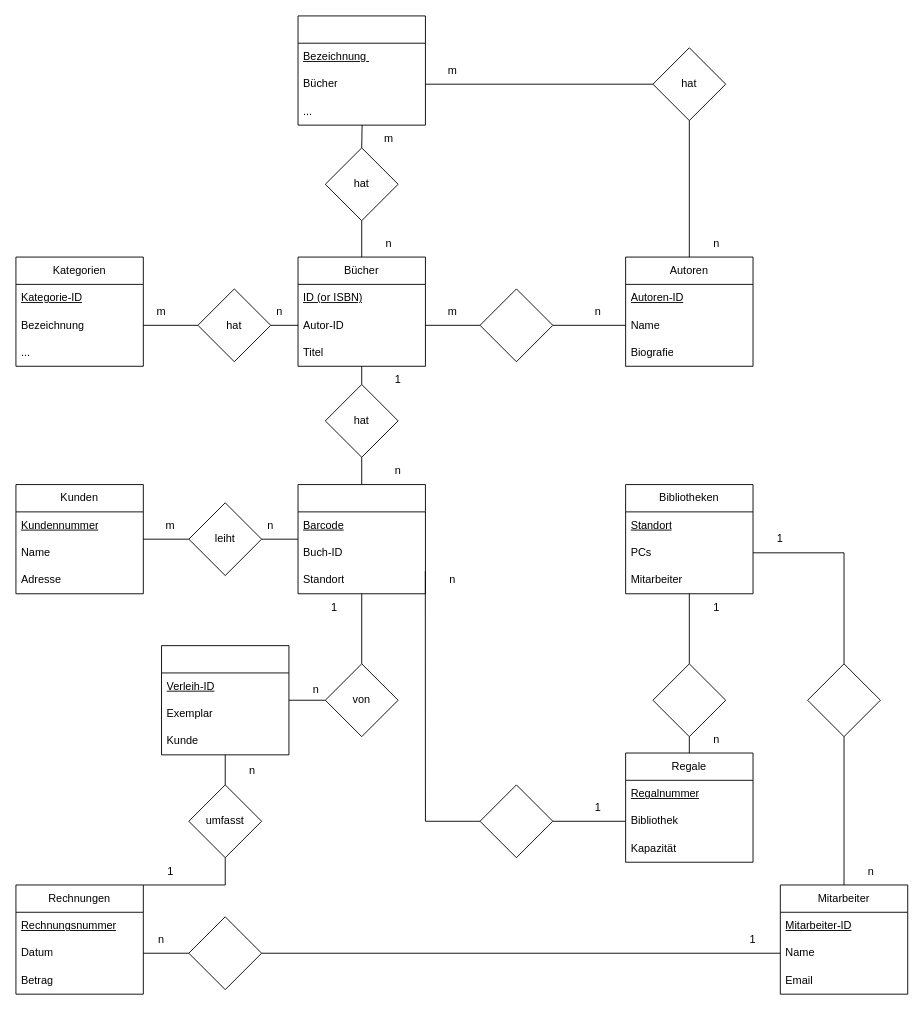
Some shapes in this 924 by 1010 pixel diagram are drawn without their labels. Each missing label, with the box of its shape:
arbeitet: (807, 663, 880, 737)
erstellt: (188, 916, 262, 990)
Exemplare: (297, 484, 425, 594)
ist: (652, 663, 726, 737)
ist im: (479, 784, 553, 858)
Schlagwörter: (297, 15, 425, 125)
schreibt: (479, 288, 553, 362)
Verleihe: (161, 645, 289, 755)
